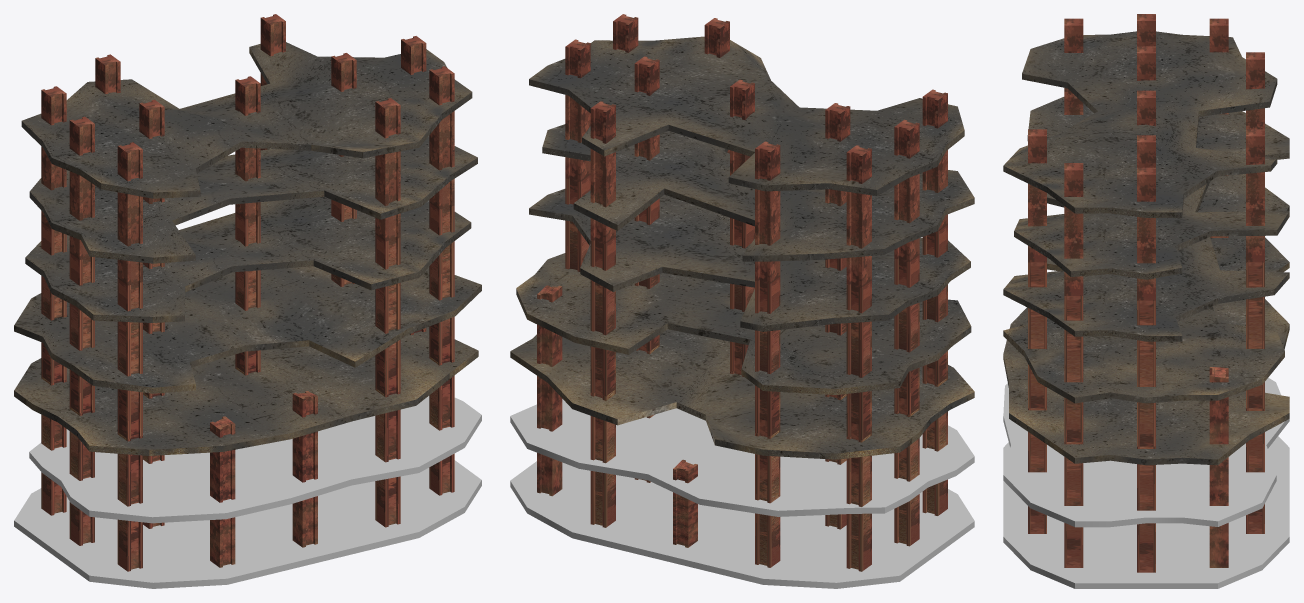
File: bldg_05.fbx
3 views of the same model, side by side, from view 1: azimuth 30°, elevation 25°; view 2: azimuth 150°, elevation 25°; view 3: azimuth 270°, elevation 25° (orthographic). The views are drawn at different scales.
Visible parts, largest first — view 1: floor_d_3, floor_c_1, floor_b_1, floor_a_1, floor_d_1, floor_a_2, floor_d_2, post_8, post_5, post_4, post_9, post_10 (+8 smaller); view 2: floor_d_3, floor_b_1, floor_a_1, floor_c_1, floor_a_2, floor_d_1, floor_d_2, post_10, post_1, post_11, post_9, post_8 (+8 smaller); view 3: floor_d_3, floor_c_1, floor_a_1, floor_b_1, floor_a_2, floor_d_2, floor_d_1, post_4, post_3, post_1, post_5, brokenPost_1 (+7 smaller).
Part boxes in pixels (bbox=[...]): floor_d_3: bbox=[21, 42, 472, 198]; floor_c_1: bbox=[14, 266, 481, 393]; floor_b_1: bbox=[14, 326, 478, 455]; floor_a_1: bbox=[14, 460, 481, 588]; floor_d_1: bbox=[25, 196, 471, 322]; floor_a_2: bbox=[29, 396, 481, 523]; floor_d_2: bbox=[29, 136, 477, 263]; post_8: bbox=[117, 142, 142, 571]; post_5: bbox=[375, 98, 400, 527]; post_4: bbox=[429, 66, 454, 495]; post_9: bbox=[69, 116, 94, 545]; post_10: bbox=[41, 86, 66, 515]; floor_d_3: bbox=[529, 36, 964, 195]; floor_b_1: bbox=[510, 329, 974, 459]; floor_a_1: bbox=[510, 461, 974, 588]; floor_c_1: bbox=[516, 253, 971, 394]; floor_a_2: bbox=[510, 399, 974, 516]; floor_d_1: bbox=[529, 189, 970, 331]; floor_d_2: bbox=[542, 124, 974, 261]; post_10: bbox=[846, 145, 871, 571]; post_1: bbox=[590, 101, 615, 527]; post_11: bbox=[755, 141, 780, 567]; post_9: bbox=[894, 119, 919, 546]; post_8: bbox=[922, 89, 947, 515]; floor_d_3: bbox=[1003, 31, 1277, 217]; floor_c_1: bbox=[1003, 236, 1289, 403]; floor_a_1: bbox=[1003, 436, 1289, 588]; floor_b_1: bbox=[1003, 299, 1289, 465]; floor_a_2: bbox=[1003, 377, 1289, 527]; floor_d_2: bbox=[1014, 97, 1289, 279]; floor_d_1: bbox=[1003, 174, 1289, 341]; post_4: bbox=[1064, 163, 1083, 567]; post_3: bbox=[1137, 167, 1155, 572]; post_1: bbox=[1246, 129, 1264, 533]; post_5: bbox=[1028, 129, 1046, 533]; brokenPost_1: bbox=[1209, 367, 1228, 567].
Bounding box in the file's own units: 2370 × 2451 × 1575.
